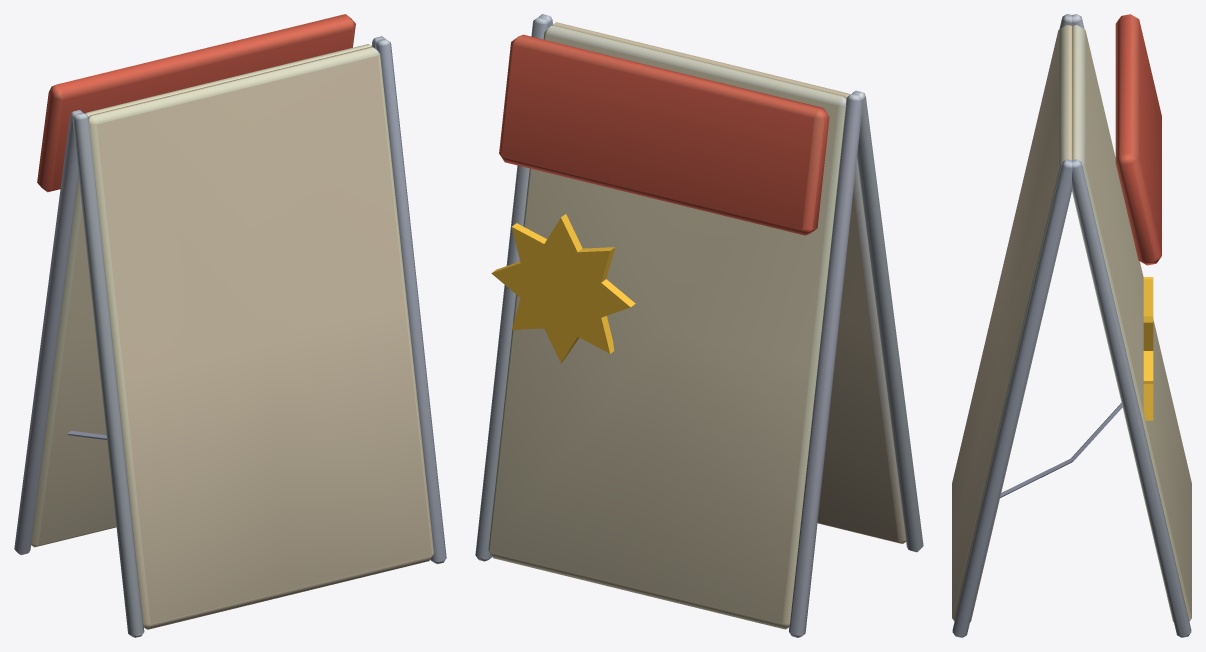
The model's file is SM_Dealer_PriceStand.fbx.
3 renders of one model, left to right at view 1: azimuth 30°, elevation 25°; view 2: azimuth 150°, elevation 25°; view 3: azimuth 270°, elevation 25°, orthographic. The views are drawn at different scales.
Parts seen in each view (by area): view 1: SM_Dealer_PriceStand; view 2: SM_Dealer_PriceStand; view 3: SM_Dealer_PriceStand.
Boxes of the visible parts, left/top/right/bottom form: SM_Dealer_PriceStand: left=14, top=14, right=446, bottom=637; SM_Dealer_PriceStand: left=475, top=14, right=923, bottom=637; SM_Dealer_PriceStand: left=952, top=14, right=1191, bottom=637.
Size of the model in its own units: 75.56 by 111 by 50.2.
